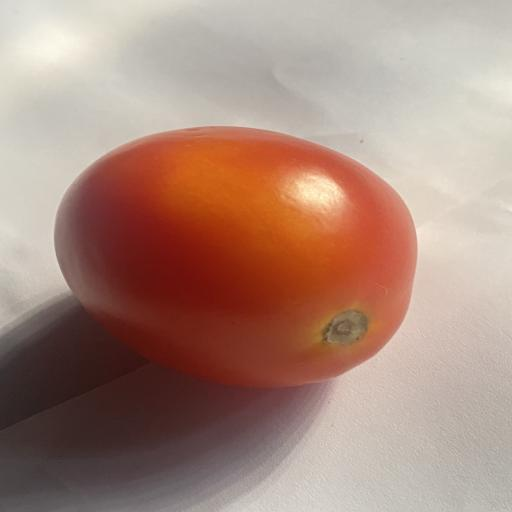ripe: (55, 127, 417, 387)
